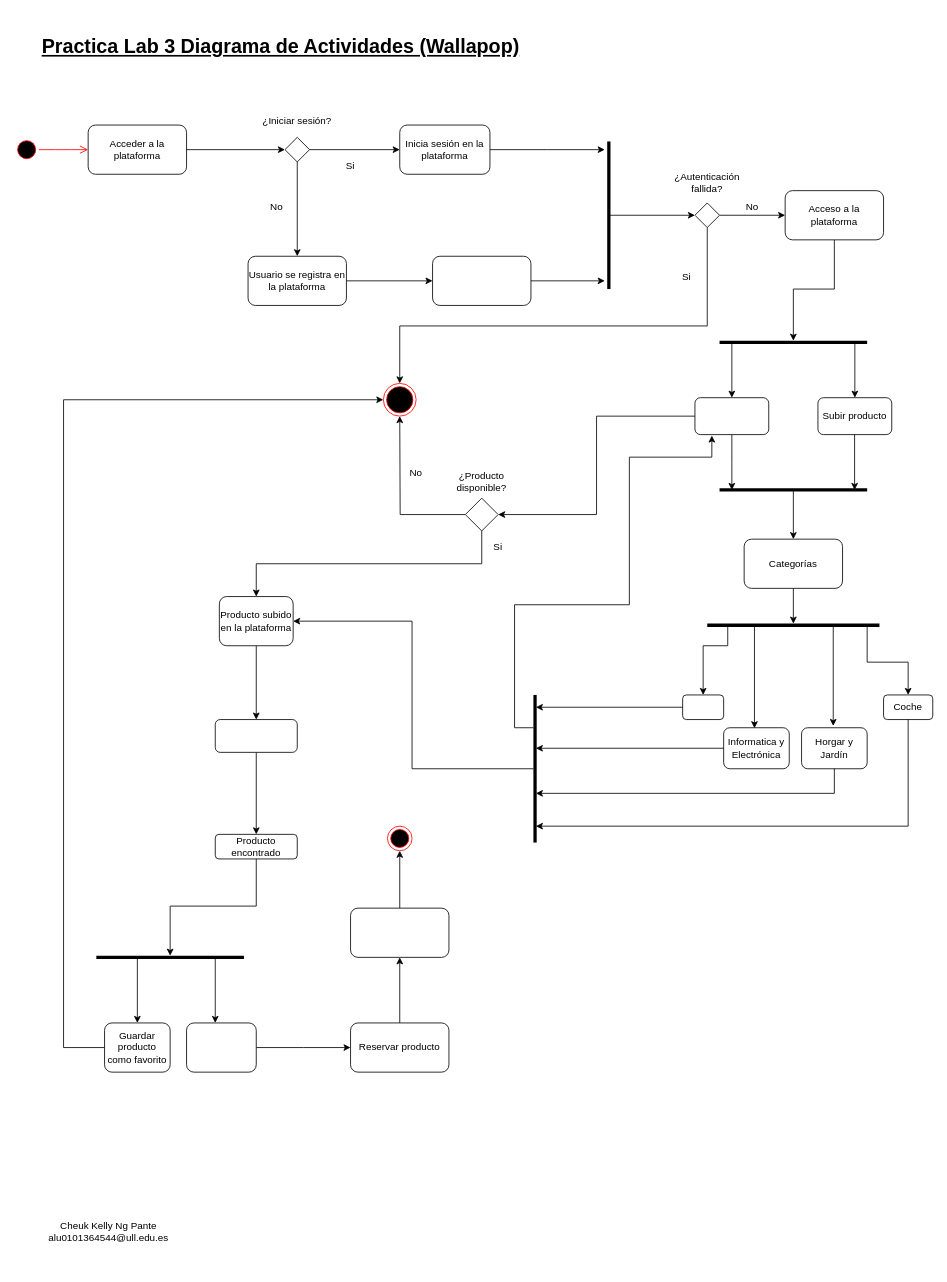
Image size: 947x1282. Some labels were removed from this diagram. The shapes that lost their labels are listed below. From the top down, each one's centre as x and y in pixels, then its label:
pixel 481 280: Introduce los datos del usuario en la plataforma
pixel 731 416: Busqueda del producto
pixel 703 707: Otros
pixel 255 735: Opción de varios vendedores
pixel 399 932: Adquirir producto
pixel 221 1047: Empezar un chat con vendedor
